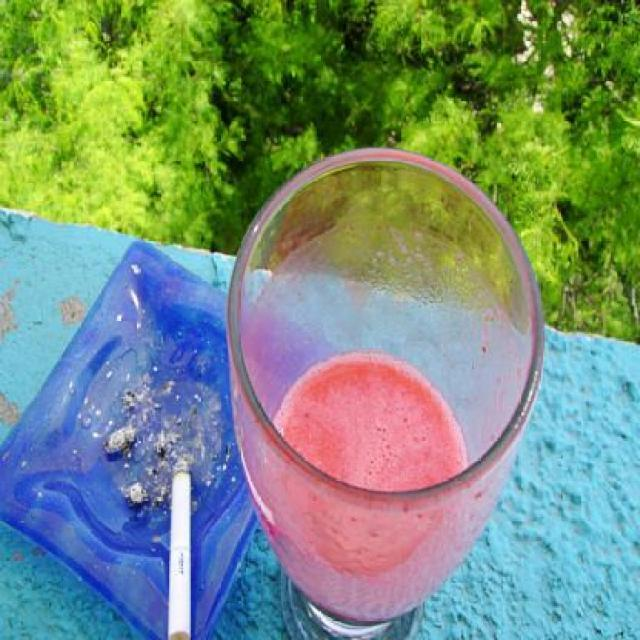Juice: (264, 346, 472, 620)
